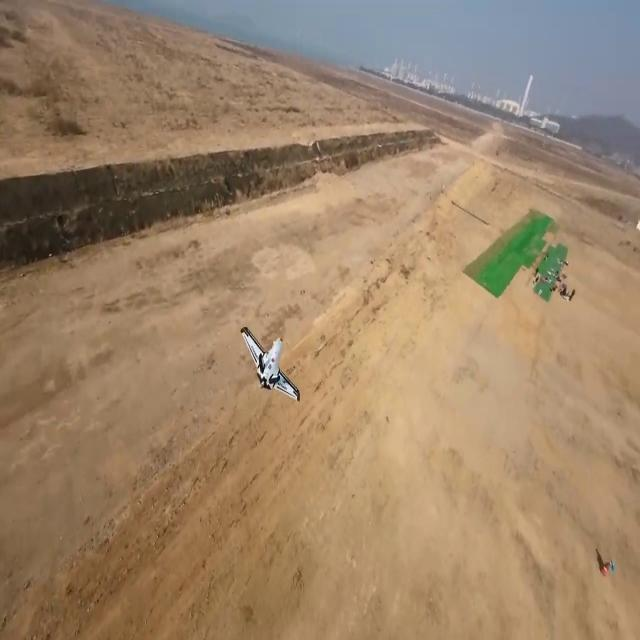iha: (232, 361, 288, 365)
